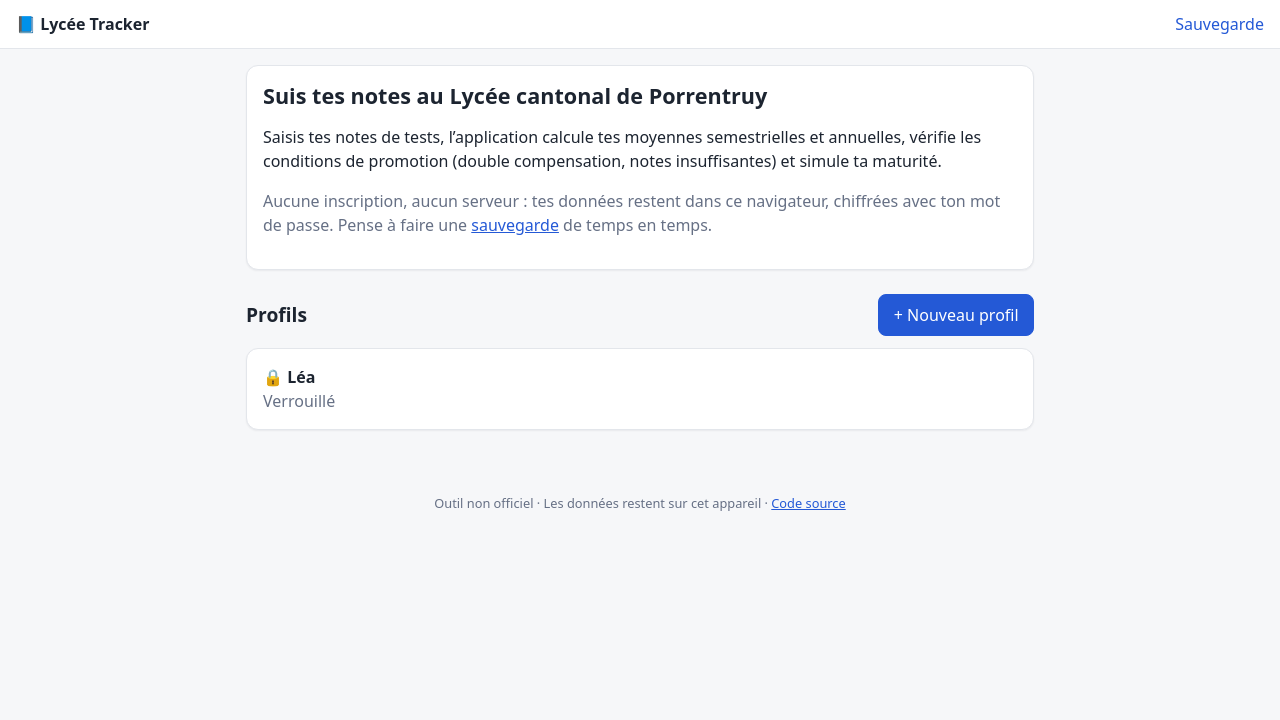
Test: App › asks for the password to open a locked profile
Expected: the text "Verrouillé" is shown, [263,390,335,412]
Click the text "🔒 Léa". click: (289, 377)
box: [263,366,315,388]
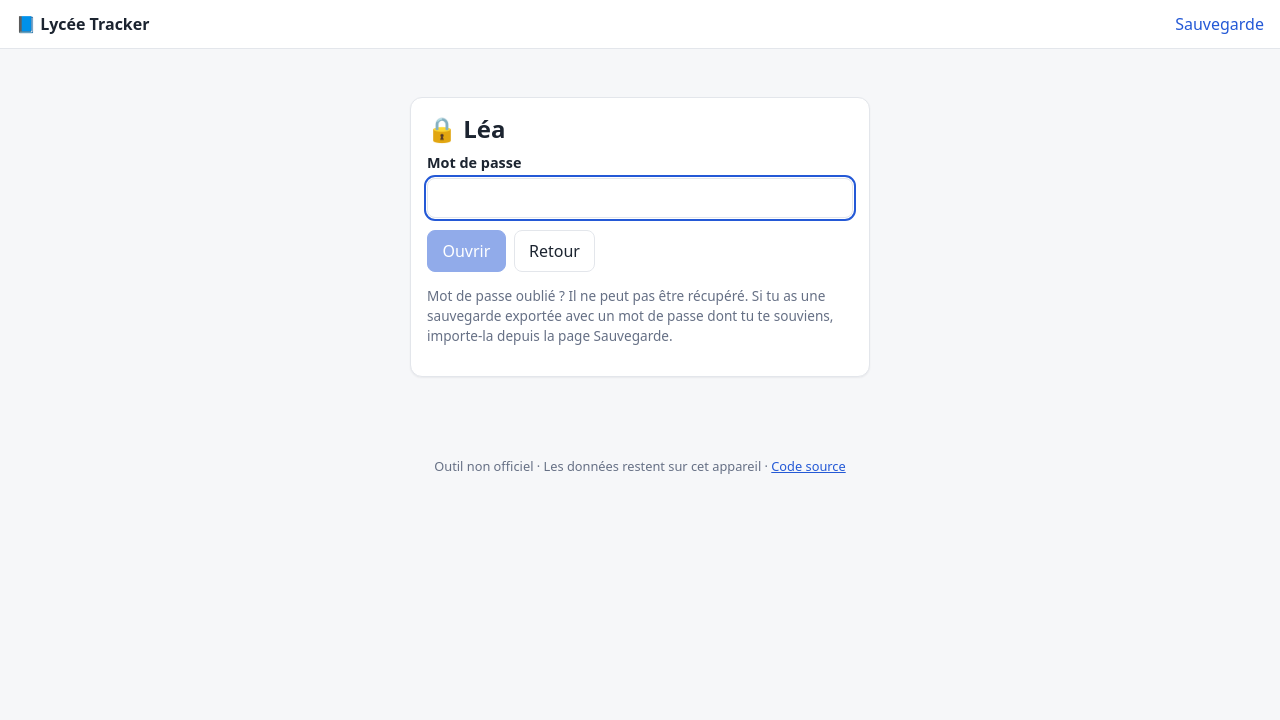
Expected: the heading "🔒 Léa" is shown, [427,112,505,145]
Type "wrong-password" into the password field labelled "Mot de passe". click: (640, 198)
box: [427,178,853,218]
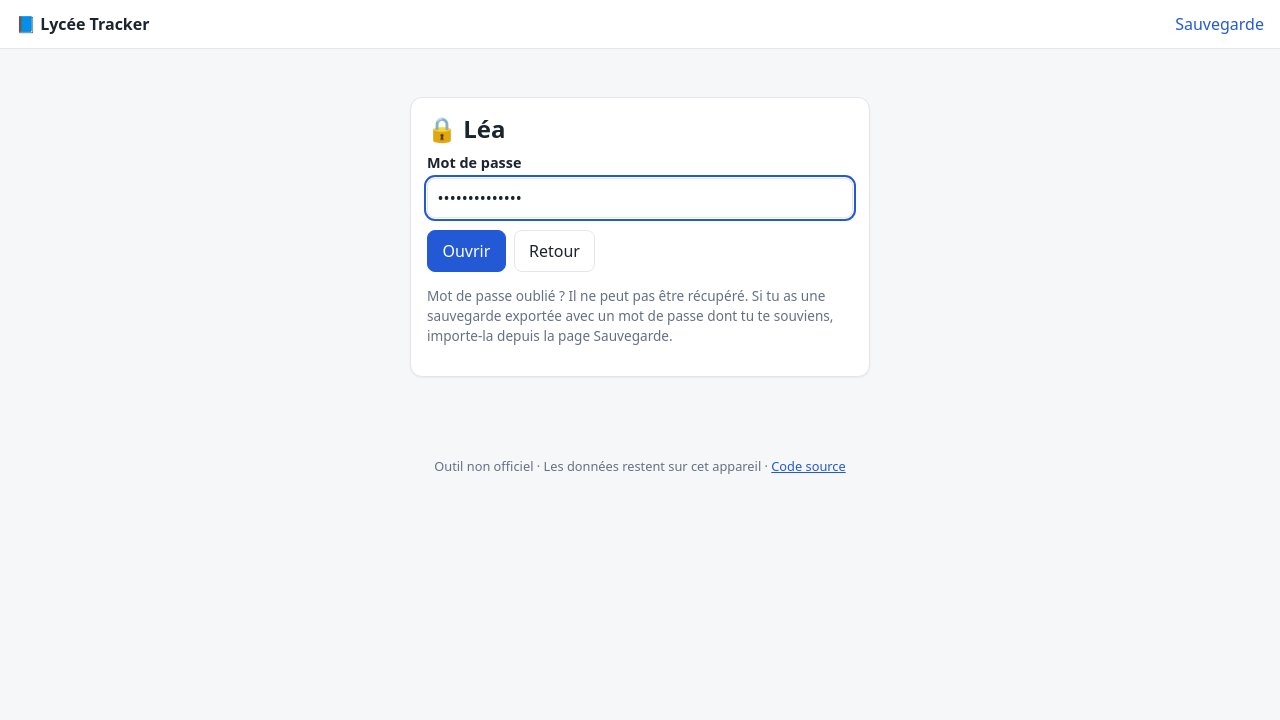
Click the button "Ouvrir". click: (466, 251)
box: [427,230,506,272]
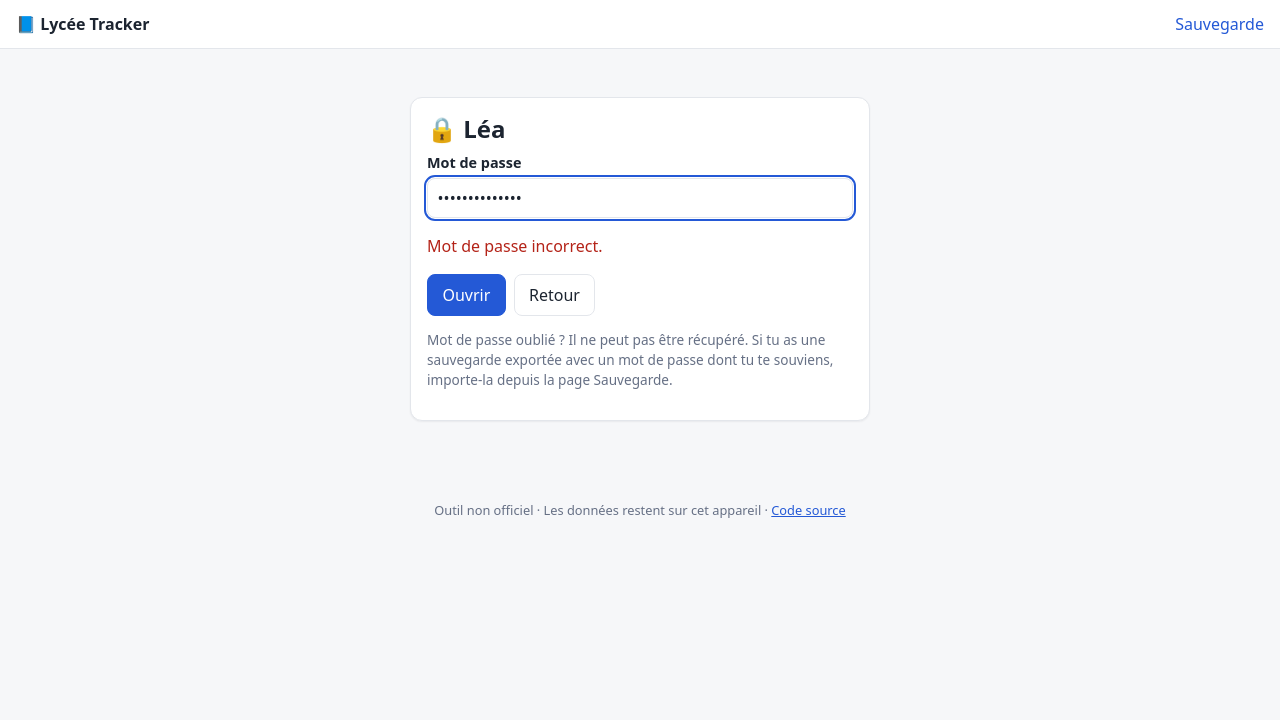
Expected: the text "Mot de passe incorrect." is shown, [427,235,602,257]
Type "secret-password" into the password field labelled "Mot de passe". click: (640, 198)
box: [427,178,853,218]
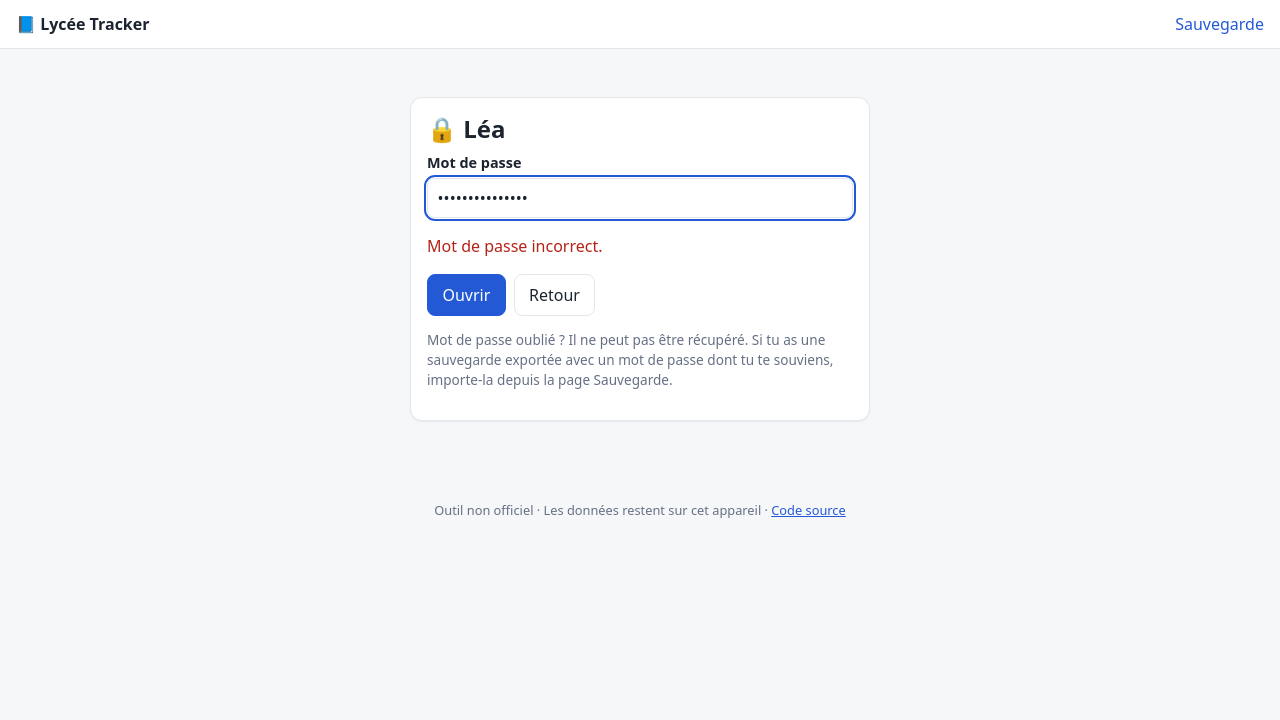
Click the button "Ouvrir". click: (466, 295)
box: [427,274,506,316]
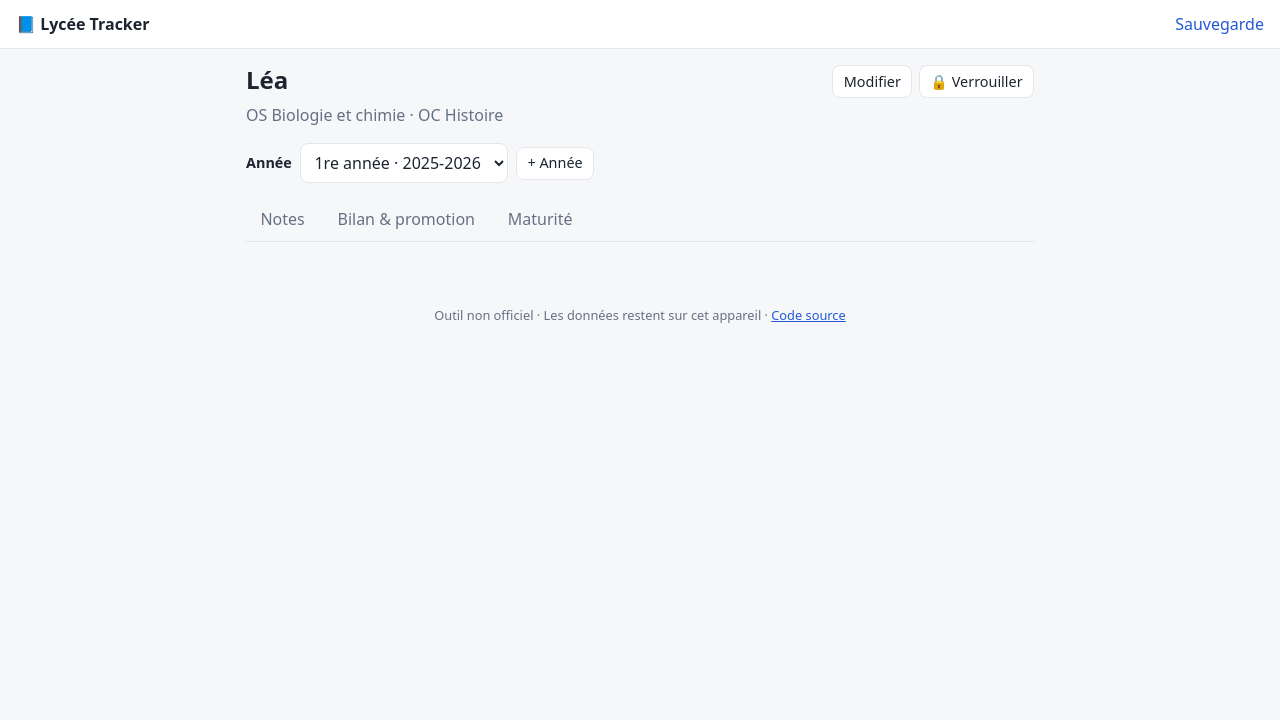
Expected: the heading "Léa" is shown, [246,63,288,96]
Click the button "🔒 Verrouiller". click: (976, 82)
box: [919,65,1034,98]
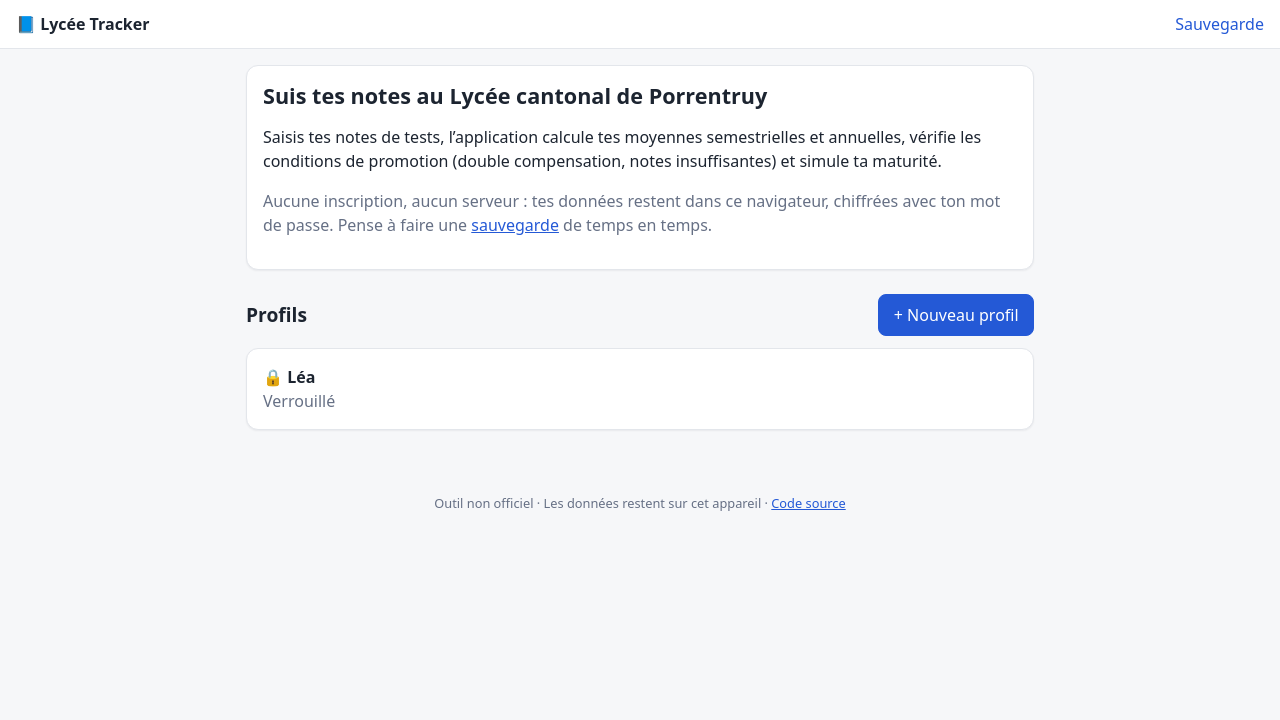
Expected: the text "Verrouillé" is shown, [263,390,335,412]
